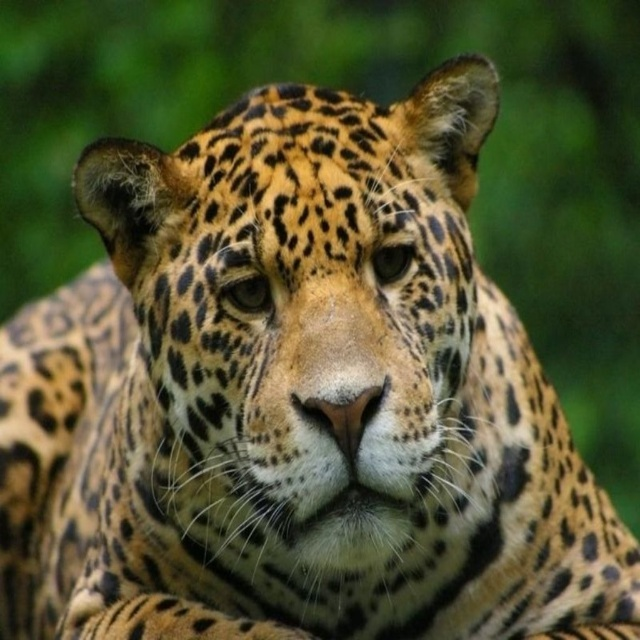Leopard: (0, 50, 639, 639)
